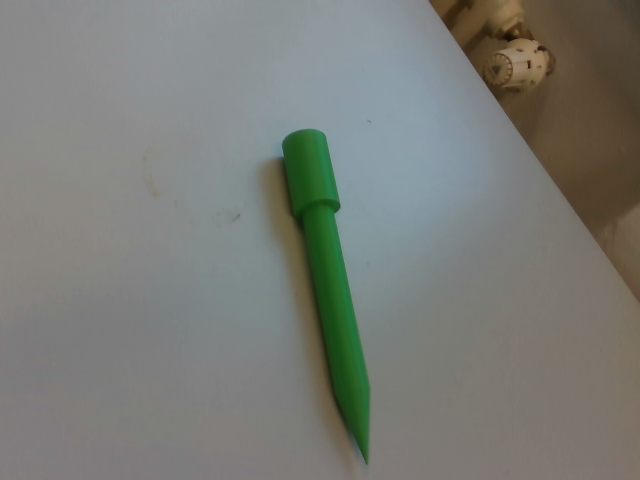Probe: (279, 124, 377, 469)
